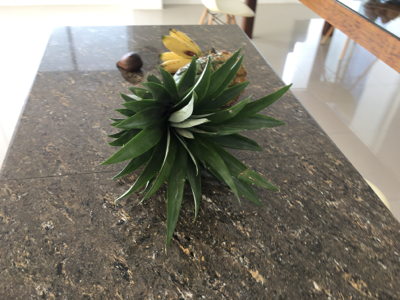pineapple: (110, 56, 281, 224)
snake fruit: (115, 52, 143, 71)
